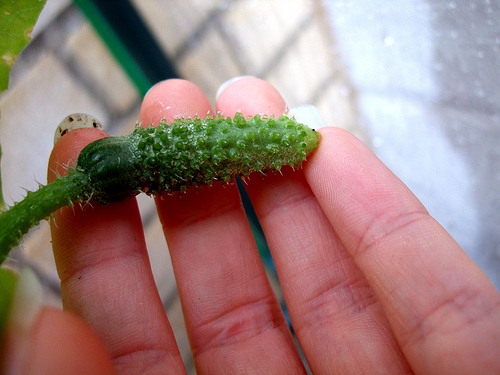cucumber: (75, 108, 324, 202)
